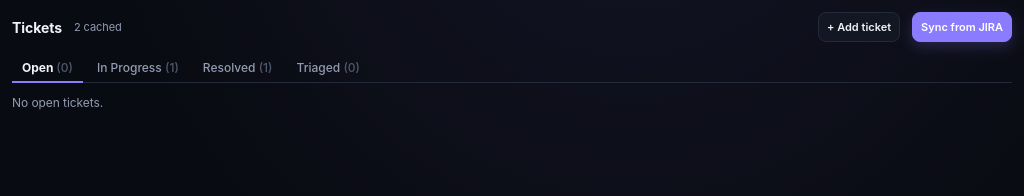
Scenario: TicketsPage › switching to the Resolved tab shows only my done tickets
Click the button with test id "tickets-tab-resolved": x=238, y=68 [193,54,282,83]
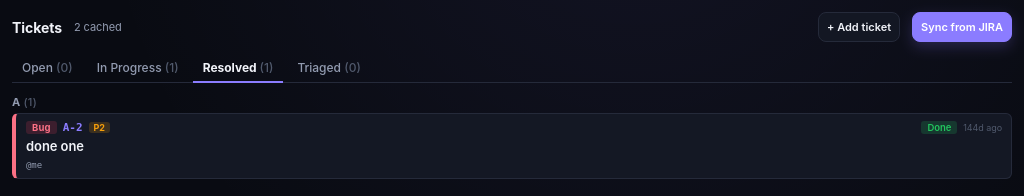
Now the element with test id "ticket-row-A-2" is shown, box [12,113,1012,178]
